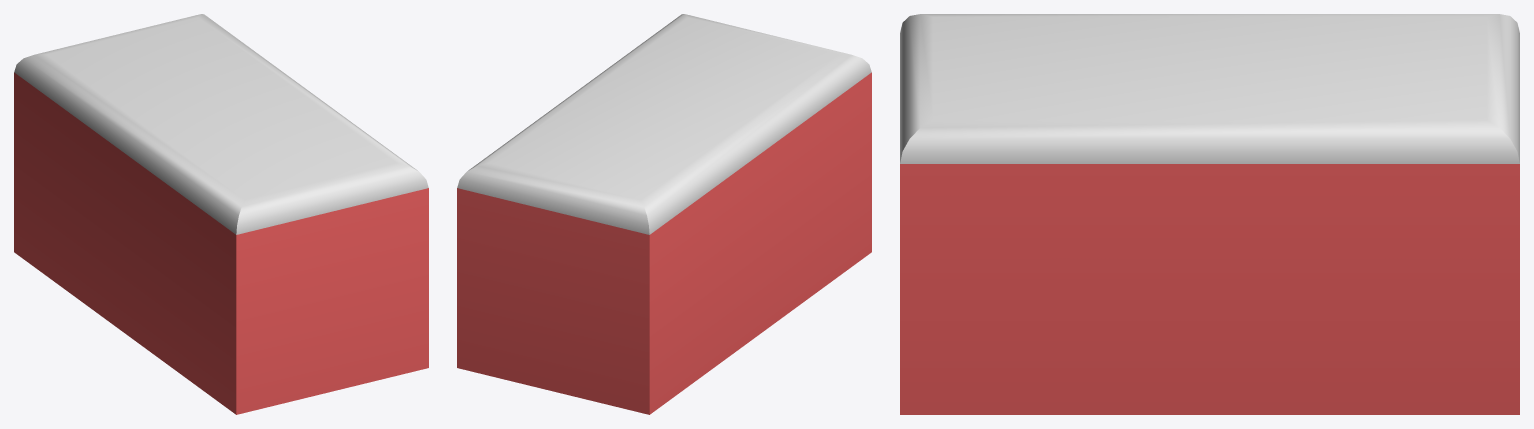
Rendered from CubeForTile_06.2.fbx.
The picture shows the model from 3 angles, left to right: view 1: azimuth 30°, elevation 25°; view 2: azimuth 150°, elevation 25°; view 3: azimuth 270°, elevation 25°; orthographic projection. The views are drawn at different scales.
Visible parts, largest first — view 1: CubeForTile_06.2; view 2: CubeForTile_06.2; view 3: CubeForTile_06.2.
Boxes of the visible parts, box(x1,y1,x2,y2) form: CubeForTile_06.2: box(14, 14, 428, 414); CubeForTile_06.2: box(457, 14, 871, 414); CubeForTile_06.2: box(900, 14, 1519, 414).
Size of the model in its own units: 100 by 100 by 200.
